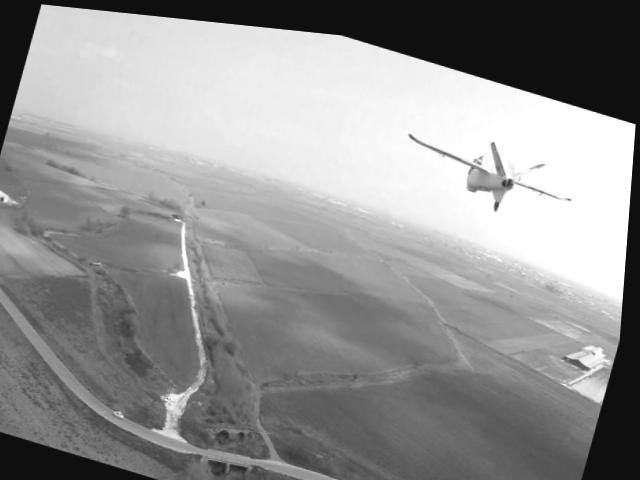hedef: (377, 82, 610, 257)
